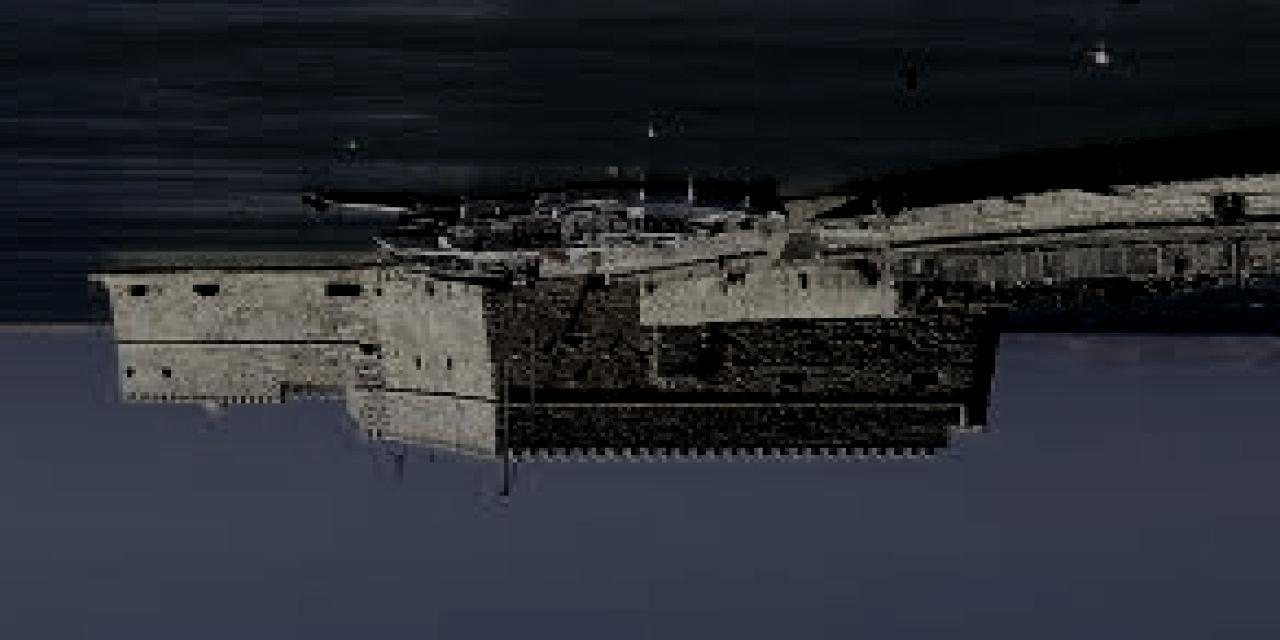Kules: (92, 263, 1007, 489)
